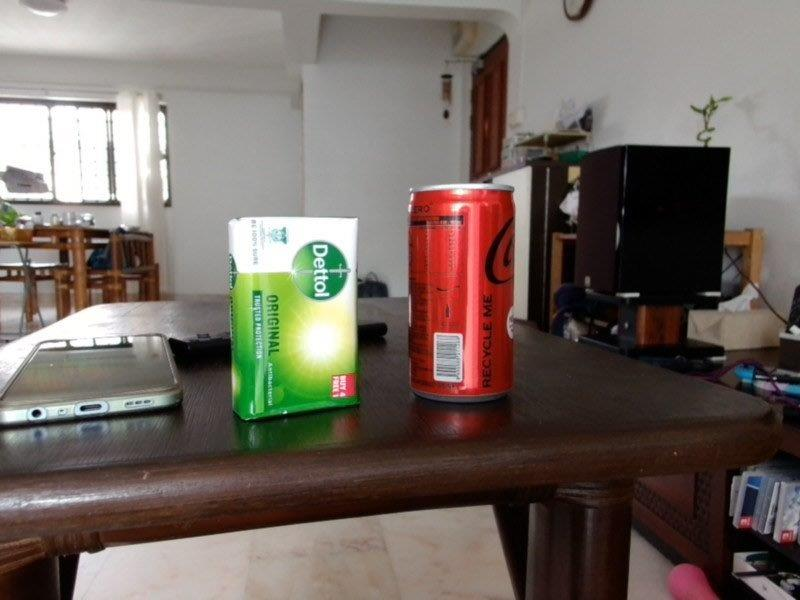Coke: (408, 184, 516, 402)
Dettol: (227, 216, 358, 423)
